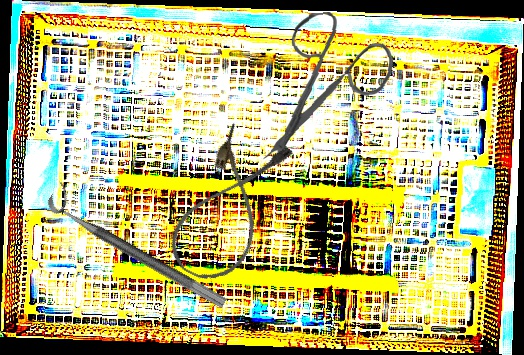Cannula: (159, 119, 299, 293)
Fixation Ring: (43, 181, 237, 310)
Iris Scissors: (251, 7, 401, 168)
